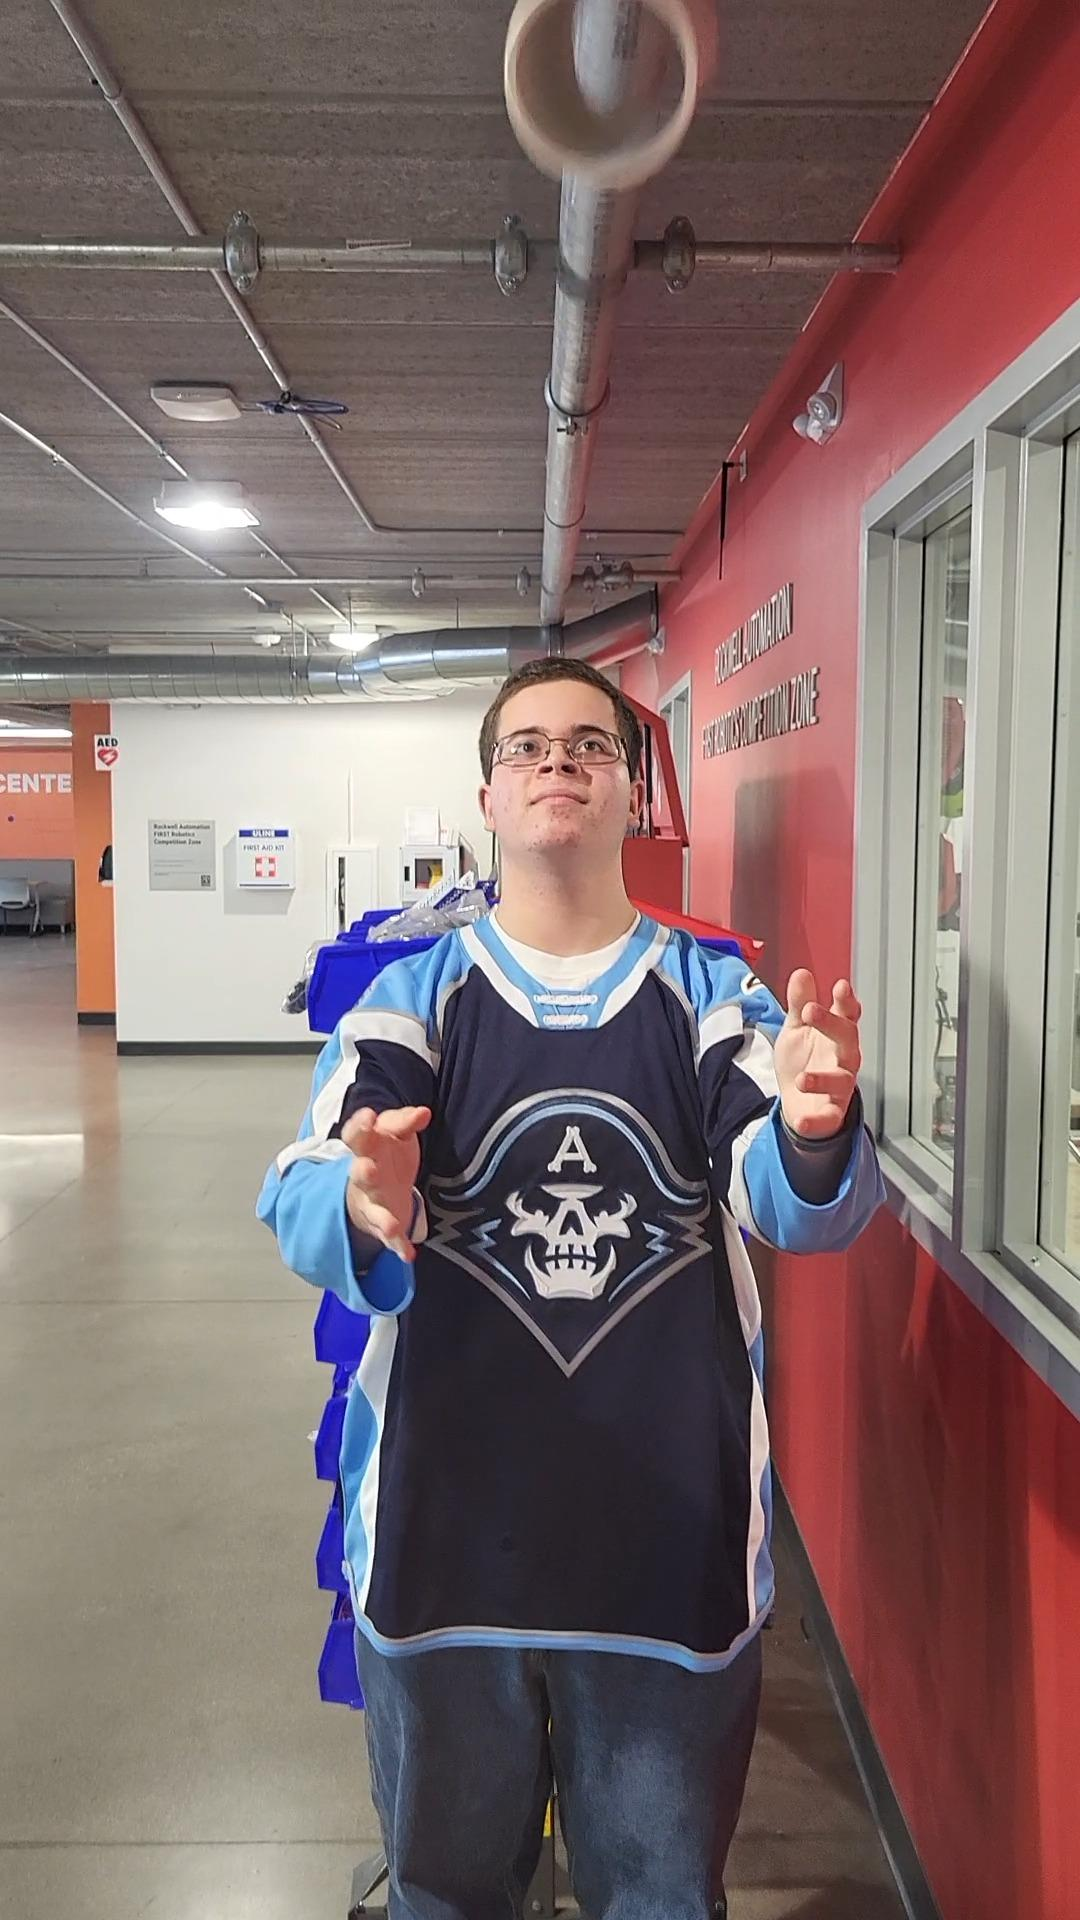coral: (506, 0, 724, 210)
